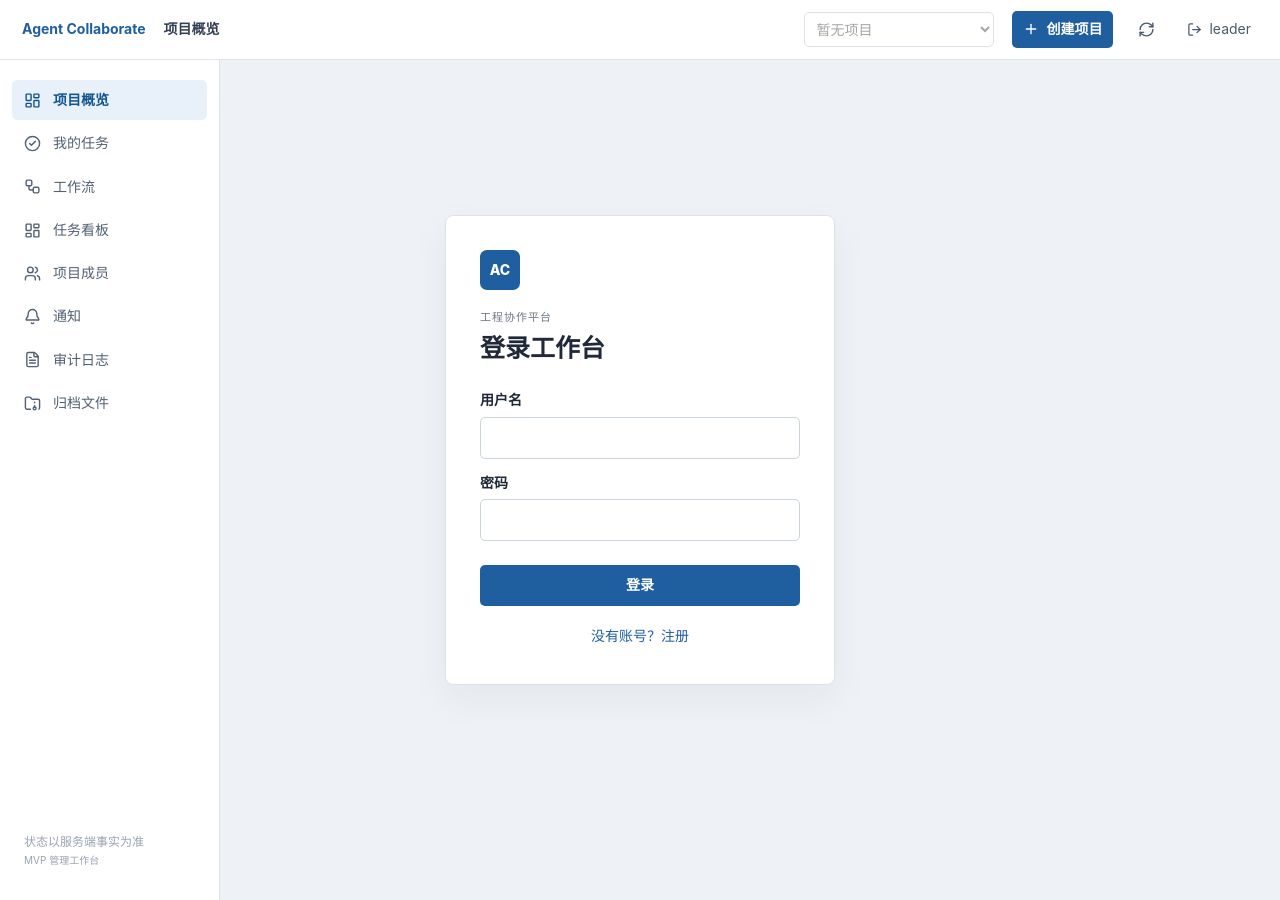
project-scoped navigation › creates and selects a project from the top bar
Click the button "创建项目" at (1063, 29), box [1012,11,1113,48]
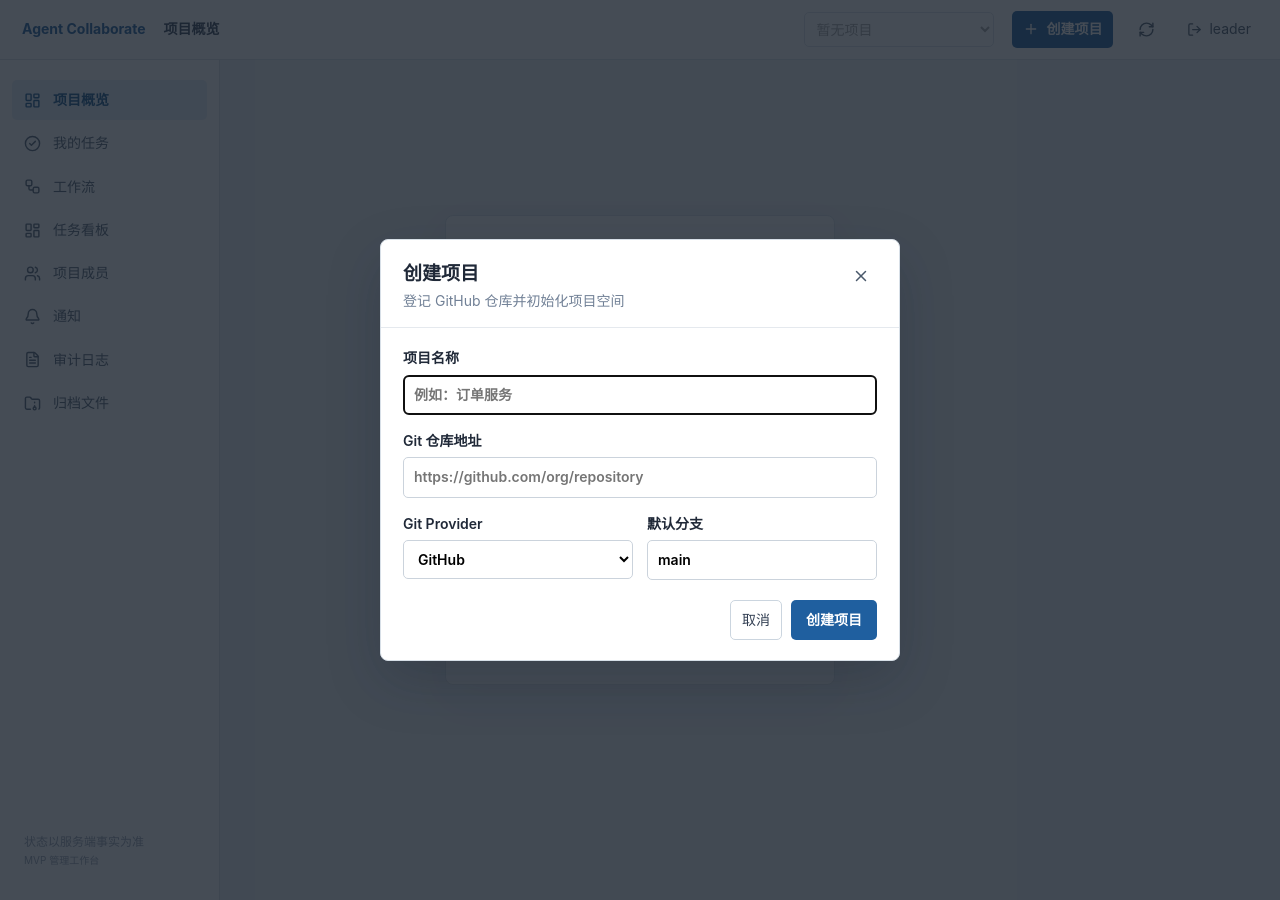
Type "订单服务" into the field labelled "项目名称" at (640, 395), box [403,375,877,415]
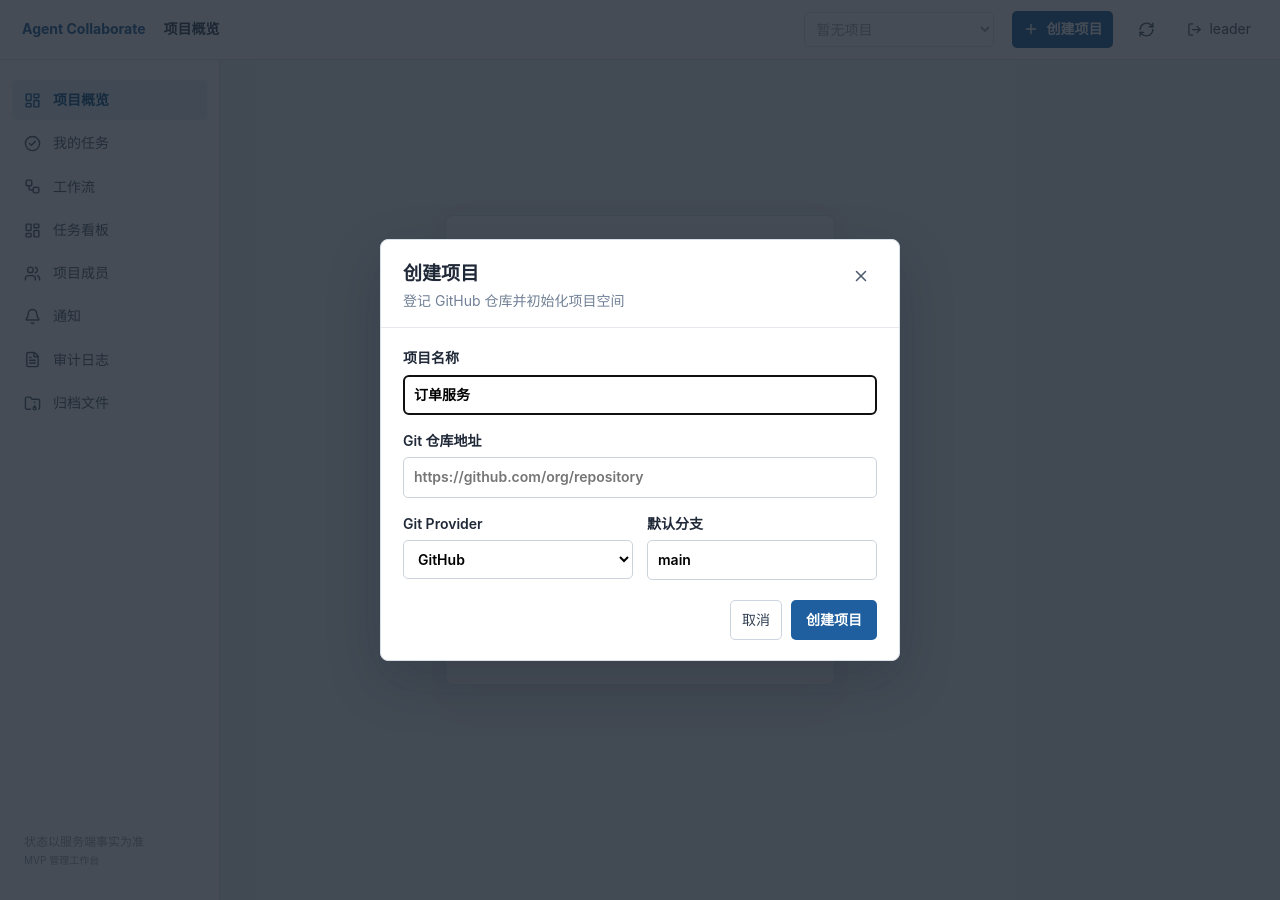
Type "https://github.com/example/orders" into the field labelled "Git 仓库地址" at (640, 477), box [403,457,877,498]
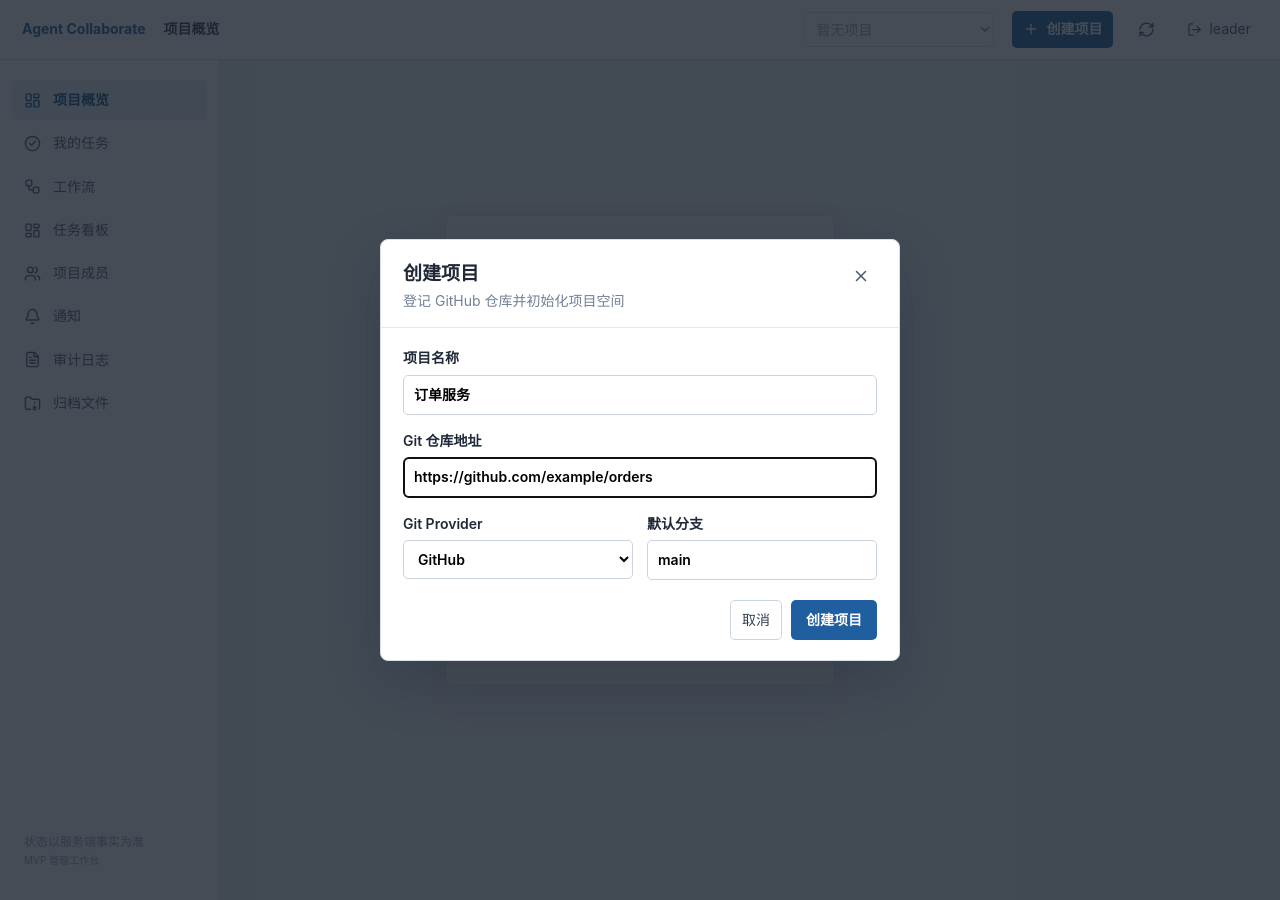
Click the button "创建项目" at (834, 620), box [791,600,877,640]
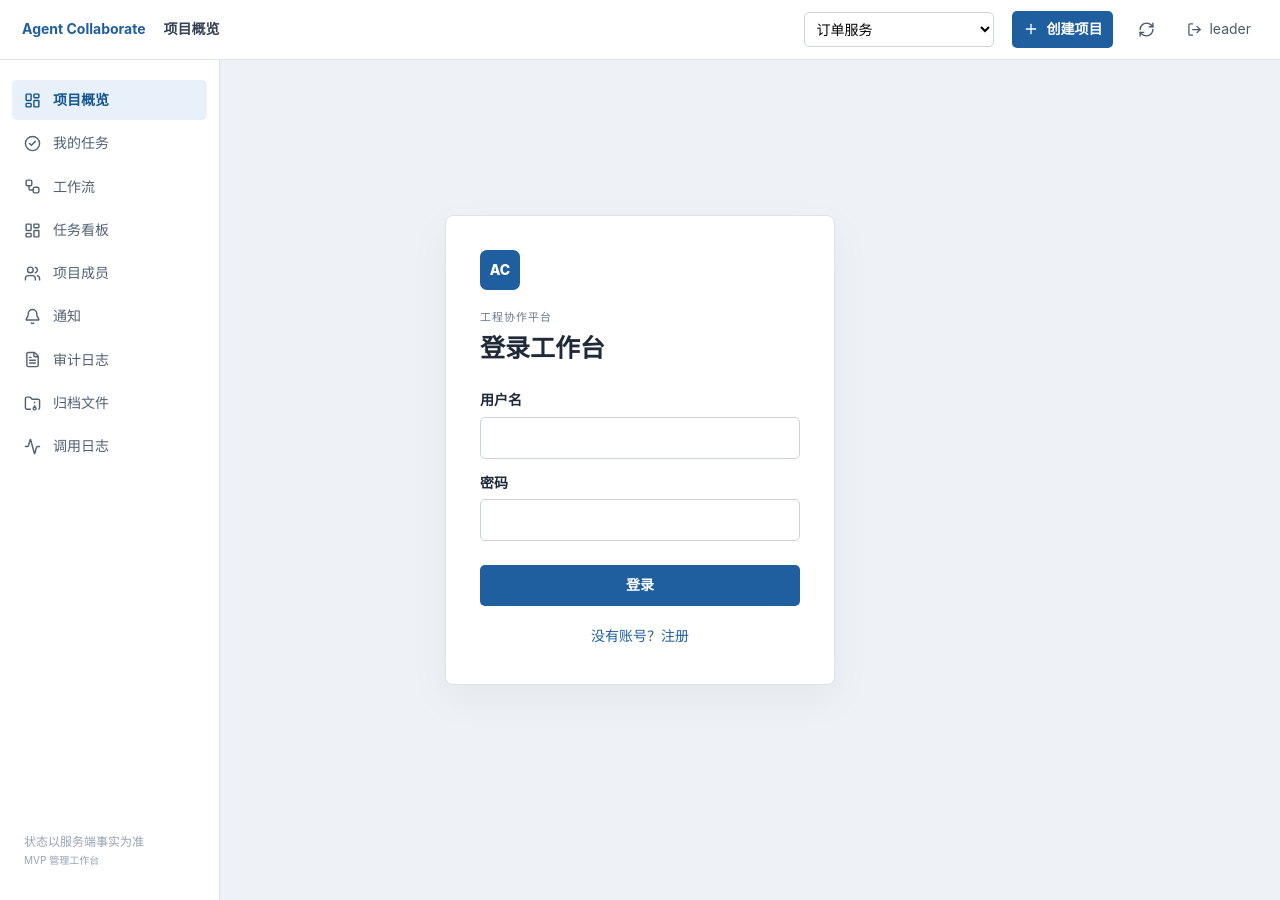
Result: the dropdown named "当前项目" shows "订单服务" at [804,12,994,47]
